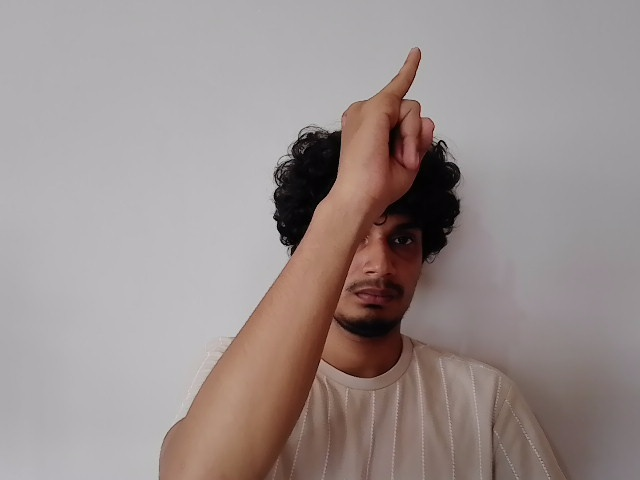bad: (339, 49, 434, 228)
